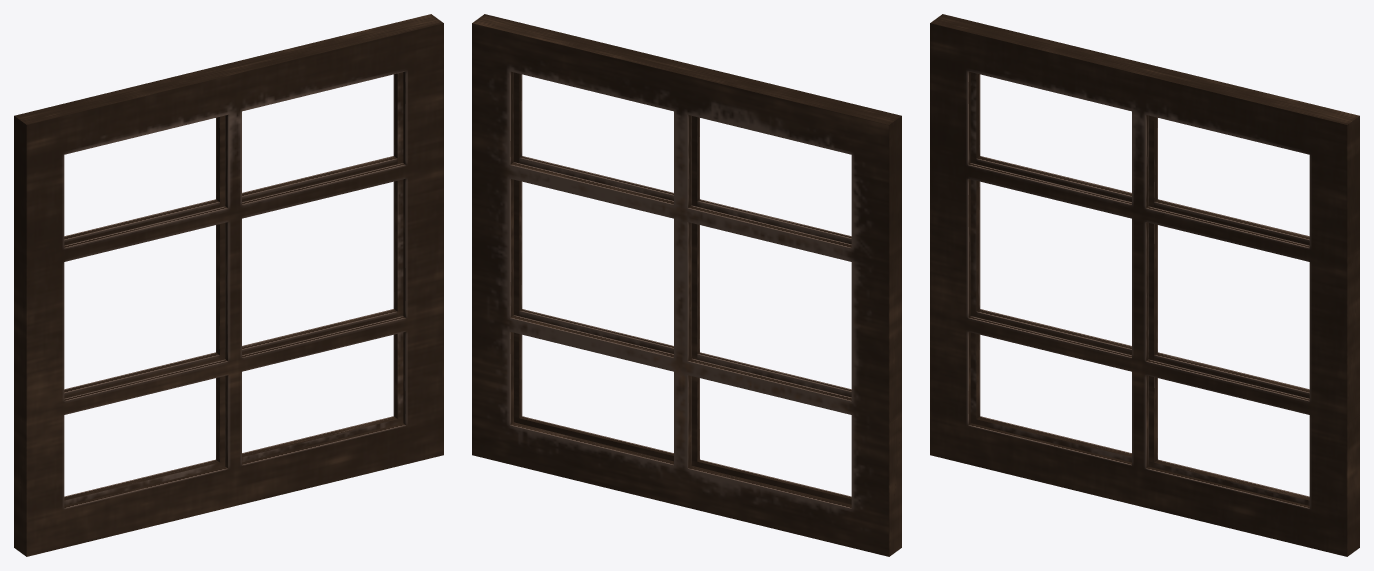
The model's file is window2InnerWindowFrame.glb.
3 views of the same model, side by side, from view 1: azimuth 30°, elevation 25°; view 2: azimuth 150°, elevation 25°; view 3: azimuth 330°, elevation 25° (orthographic).
Parts seen in each view (by area): view 1: window2InnerWindowFrame; view 2: window2InnerWindowFrame; view 3: window2InnerWindowFrame.
Boxes of the visible parts, x1,y1,x2,y2 form: window2InnerWindowFrame: (14,14,443,556); window2InnerWindowFrame: (472,14,901,556); window2InnerWindowFrame: (930,14,1359,556).
Size of the model in its own units: 0.5541 by 0.5483 by 0.0289.
1 material, 1 textured.
